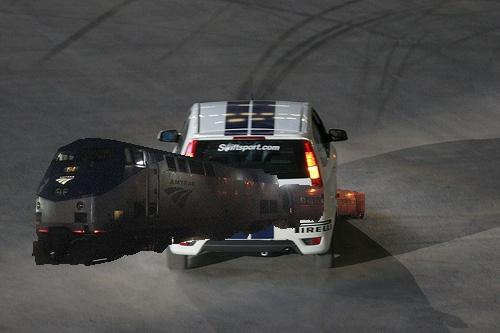tampered: (33, 139, 365, 266)
